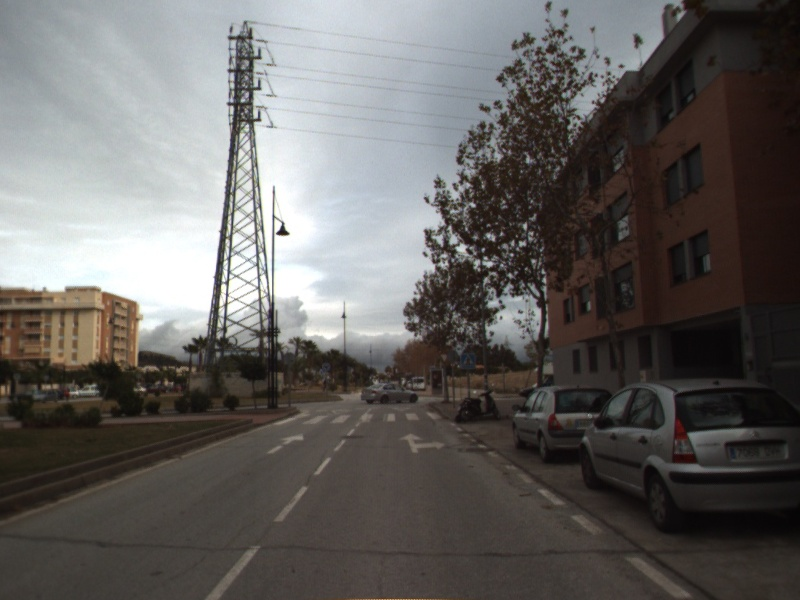STRAIGHT: (265, 431, 306, 455)
STRAIGHT_RIGHT: (397, 431, 447, 455)
